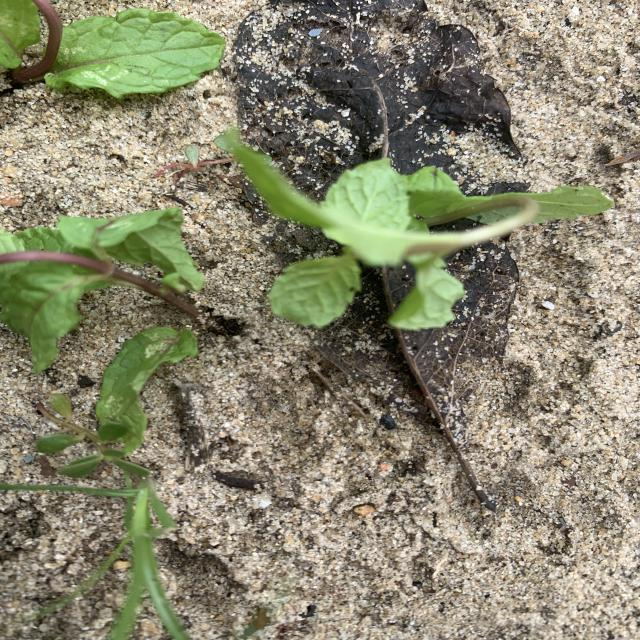crop: (227, 141, 614, 330), (0, 208, 220, 452), (2, 2, 224, 97)
weed: (0, 479, 190, 640), (36, 394, 149, 478)
